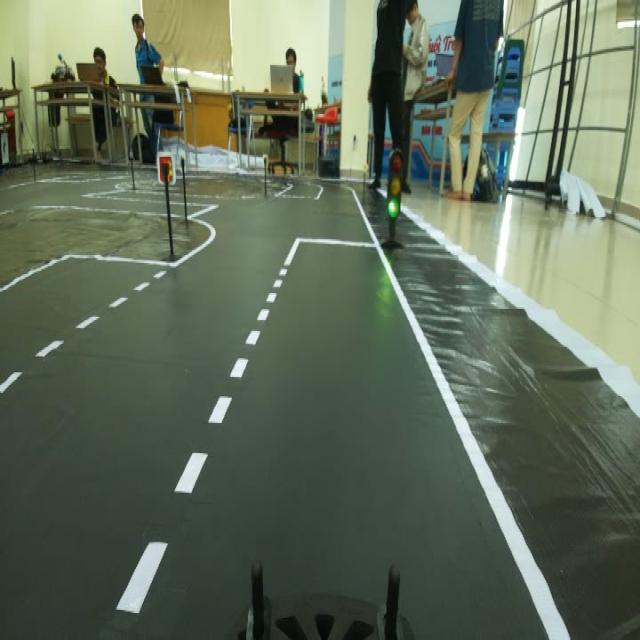trafficlight: (379, 140, 412, 262)
